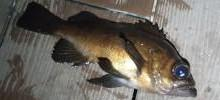fish: (17, 2, 199, 98)
